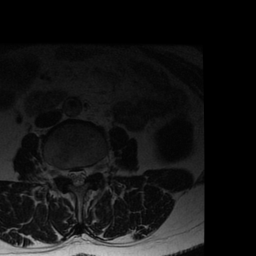CCS_normal: (74, 163, 80, 190)
LFS_normal: (87, 159, 94, 180)
LLS_normal: (81, 165, 86, 186)
RFS_stenosis: (60, 162, 68, 182)
RLS_normal: (68, 165, 74, 186)
